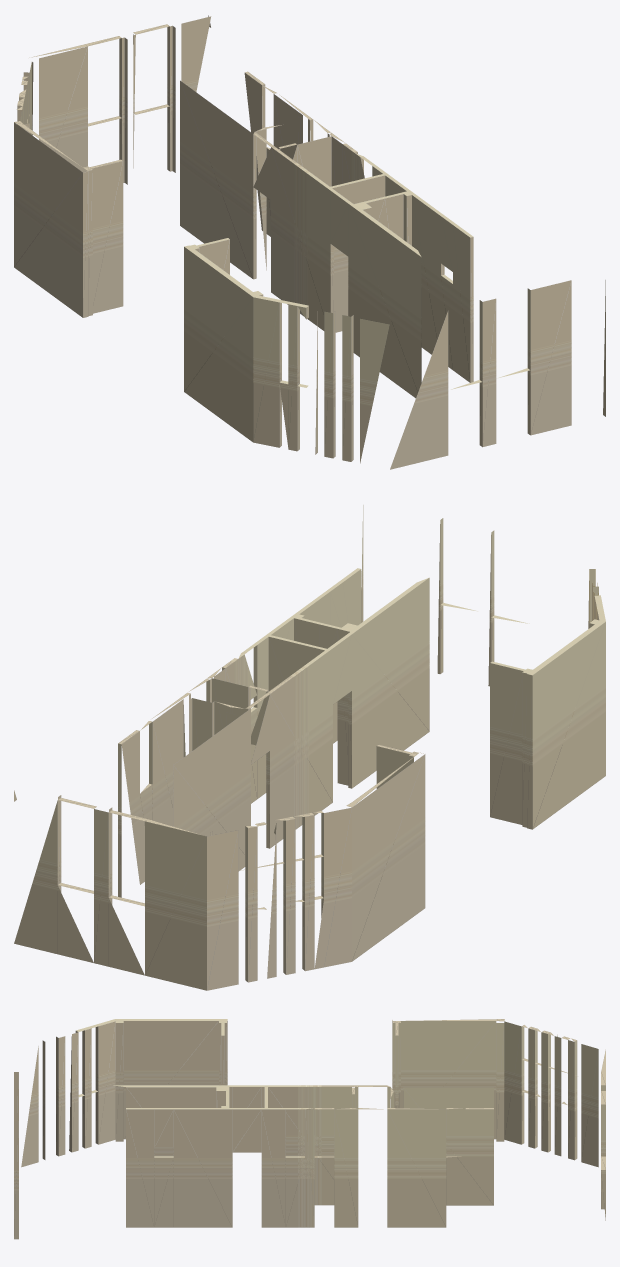
3 renders of one model, top to bottom at view 1: azimuth 30°, elevation 25°; view 2: azimuth 150°, elevation 25°; view 3: azimuth 270°, elevation 25°, orthographic. The views are drawn at different scales.
Visible parts, largest first — view 1: Line002_网格.001_网格.001; view 2: Line002_网格.001_网格.001; view 3: Line002_网格.001_网格.001.
Boxes of the visible parts, x1,y1,x2,y2 form: Line002_网格.001_网格.001: (14,15,605,469); Line002_网格.001_网格.001: (14,505,605,990); Line002_网格.001_网格.001: (14,1019,605,1239).
Size of the model in its own units: 16.95 by 8.1 by 36.7.
Materials: 1 (1 with a texture image).
